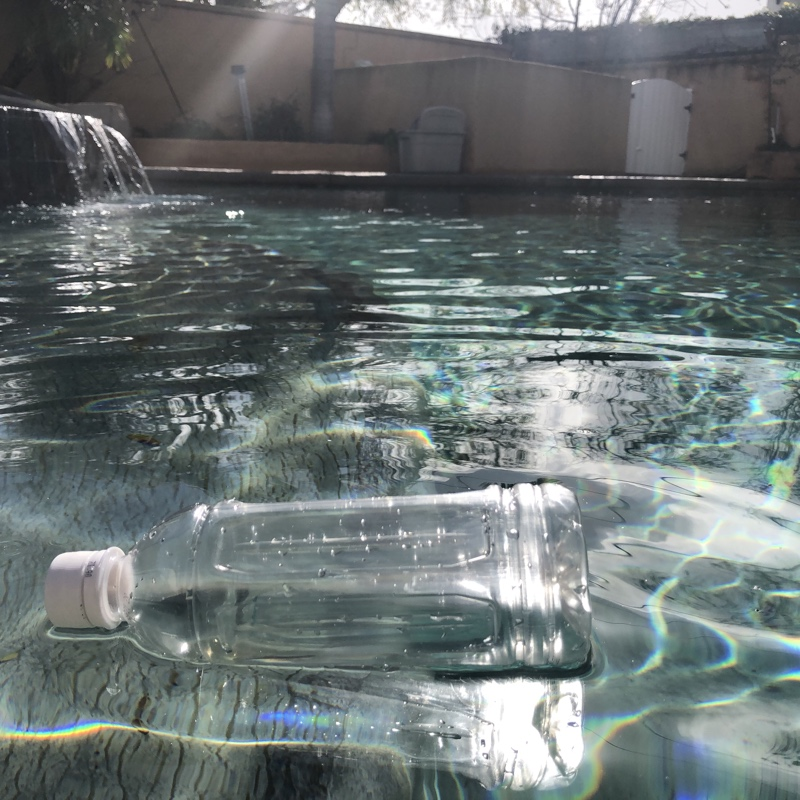Plastic Bottle: (38, 472, 596, 684)
